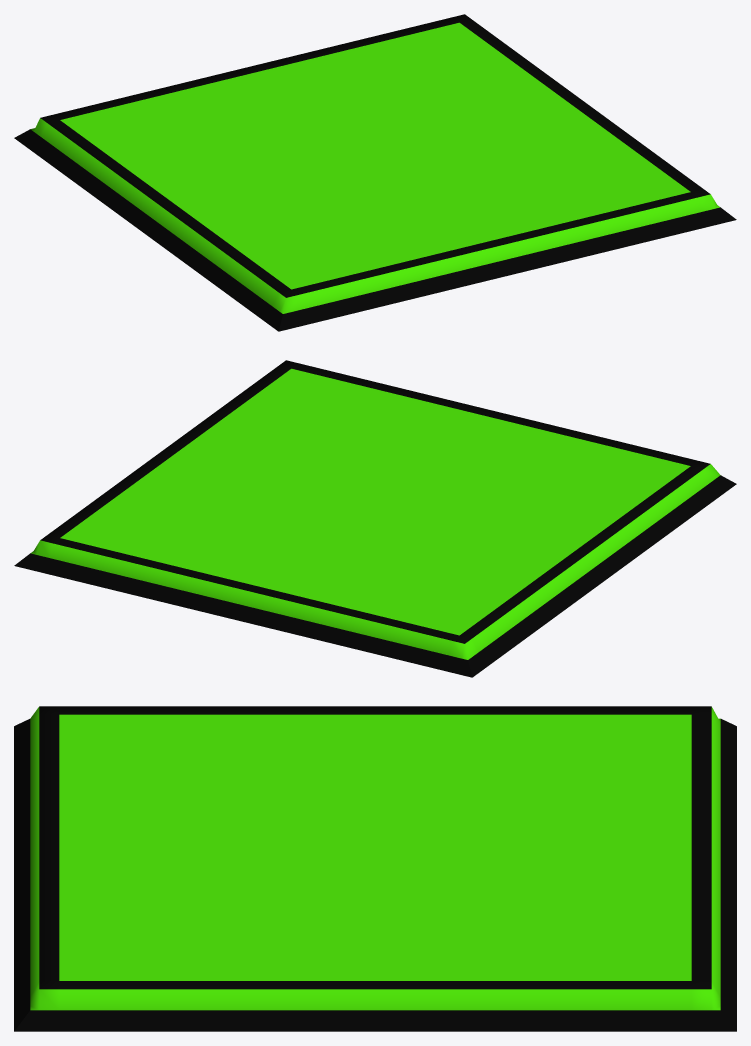
Rendered from PressurePlate.fbx.
The picture shows the model from 3 angles, top to bottom: view 1: azimuth 30°, elevation 25°; view 2: azimuth 150°, elevation 25°; view 3: azimuth 270°, elevation 25°; orthographic projection. The views are drawn at different scales.
Parts seen in each view (by area): view 1: pCube1; view 2: pCube1; view 3: pCube1.
Part boxes in pixels (<box>): pCube1: <box>14,14,736,331</box>; pCube1: <box>14,360,736,677</box>; pCube1: <box>14,706,736,1031</box>.
Bounding box in the file's own units: 4 × 0.1909 × 4.
